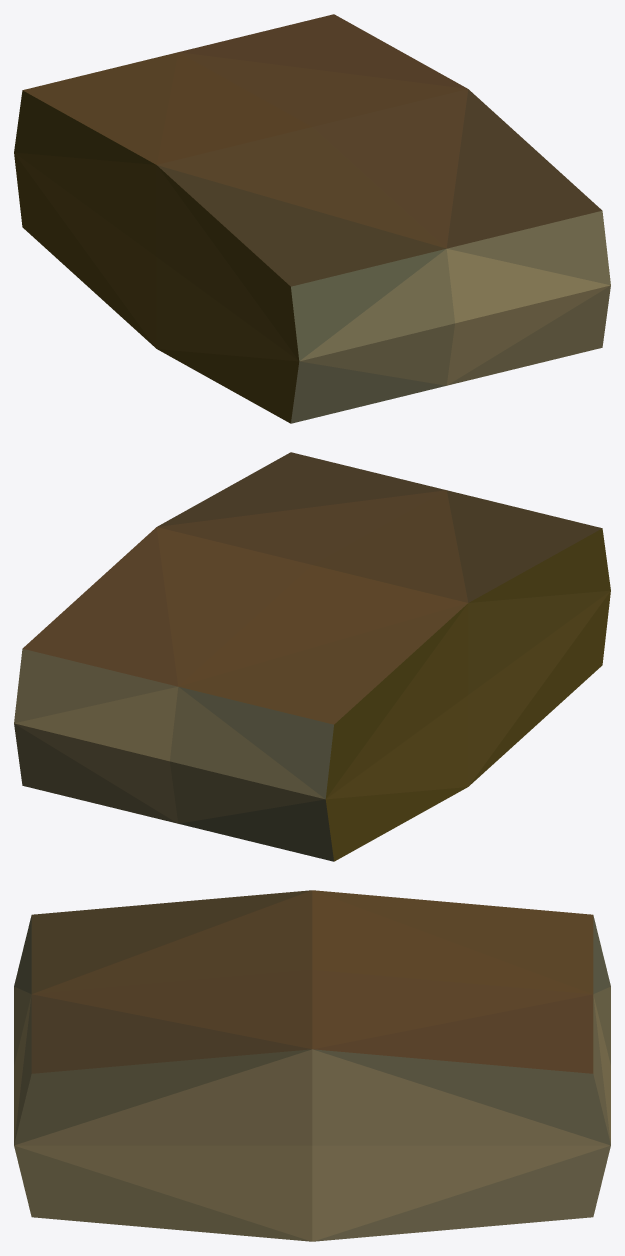
The model's file is prop_literature_book14.fbx.
The picture shows the model from 3 angles, top to bottom: view 1: azimuth 30°, elevation 25°; view 2: azimuth 150°, elevation 25°; view 3: azimuth 270°, elevation 25°; orthographic projection. The views are drawn at different scales.
Visible parts, largest first — view 1: prop_literature_book14; view 2: prop_literature_book14; view 3: prop_literature_book14.
Part boxes in pixels (x1,y1,x2,y2): prop_literature_book14: [14, 14, 610, 423]; prop_literature_book14: [14, 452, 610, 861]; prop_literature_book14: [14, 890, 610, 1241].
Bounding box in the file's own units: 0.3895 × 0.2197 × 0.6175.
